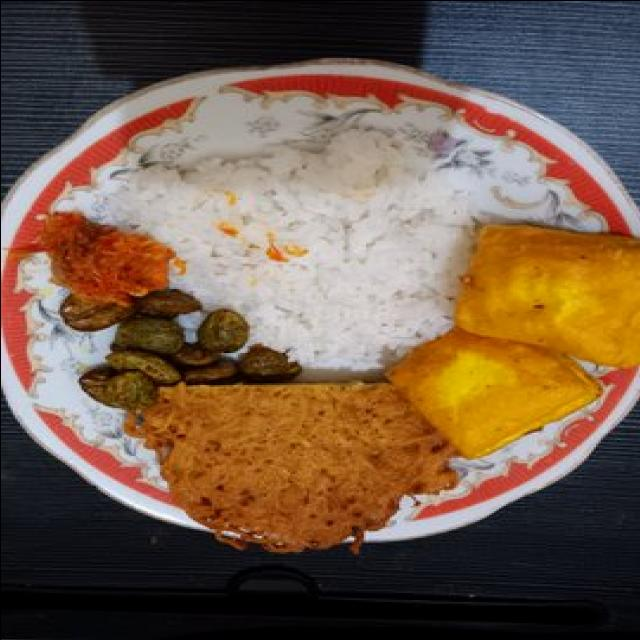nasi: (73, 85, 612, 382)
tahu goreng: (384, 324, 604, 457), (453, 220, 640, 366)
